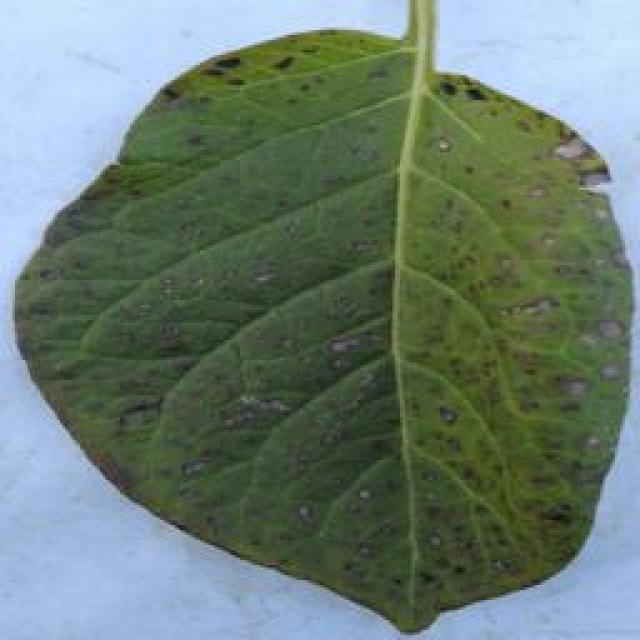Potato_Early_Blight: (9, 29, 640, 630)
